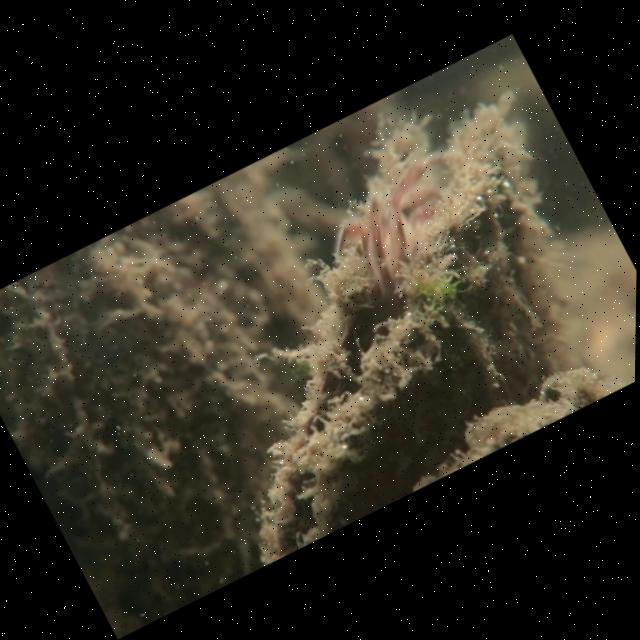Oyster-Open: (265, 117, 568, 557)
